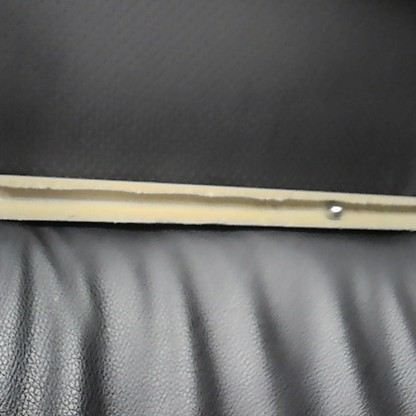ironball: (322, 201, 345, 219)
